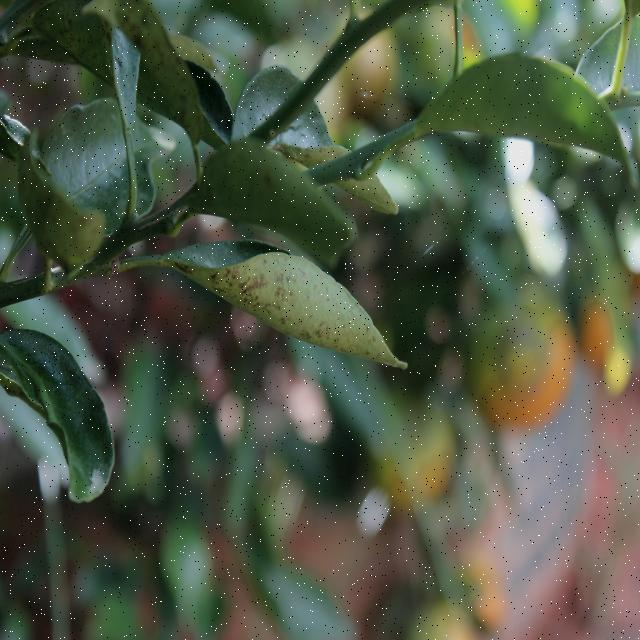melanose: (183, 230, 406, 370), (193, 120, 399, 250), (27, 0, 213, 125), (6, 154, 118, 285)
